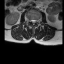CCS_normal: (32, 18, 34, 26)
LFS_normal: (36, 18, 39, 24)
LLS_normal: (34, 18, 36, 24)
RFS_normal: (28, 17, 31, 24)
RLS_normal: (31, 18, 32, 24)
